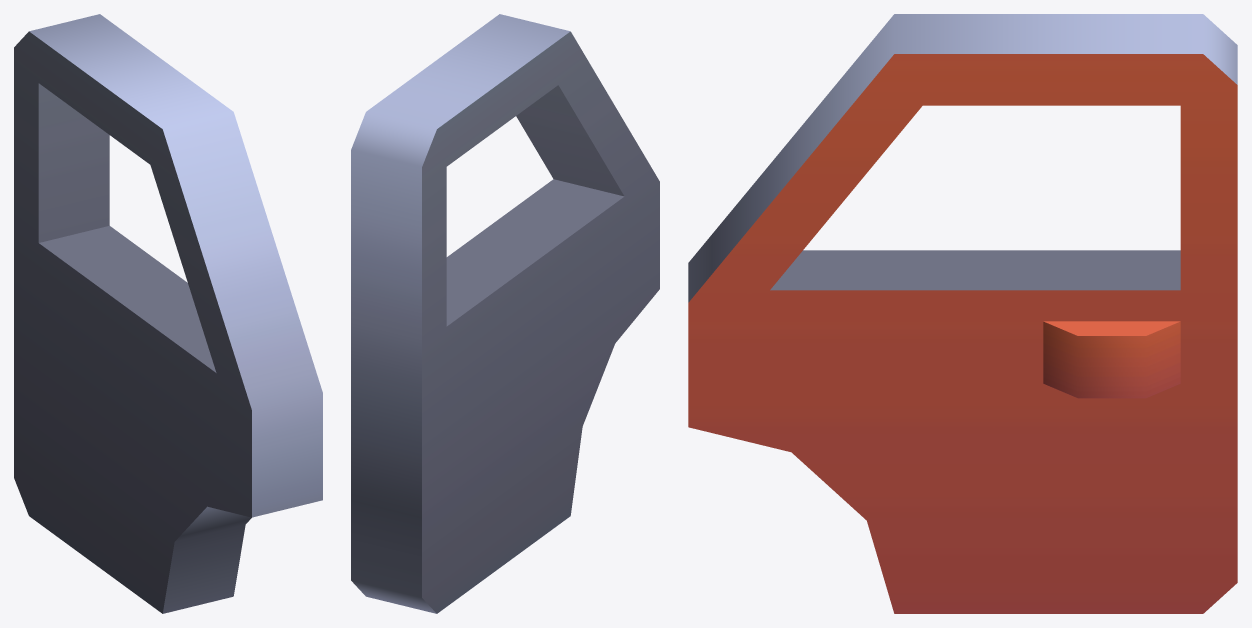
File: kenney-debris-door.glb
3 views of the same model, side by side, from view 1: azimuth 30°, elevation 25°; view 2: azimuth 150°, elevation 25°; view 3: azimuth 270°, elevation 25° (orthographic). The views are drawn at different scales.
Parts seen in each view (by area): view 1: debris-door; view 2: debris-door; view 3: debris-door.
Boxes of the visible parts, box(x1,y1,x2,y2) form: debris-door: box(14, 14, 322, 613); debris-door: box(351, 14, 659, 613); debris-door: box(688, 14, 1237, 613).
Size of the model in its own units: 0.188 by 0.9 by 0.8.
Materials: 1 (1 with a texture image).
